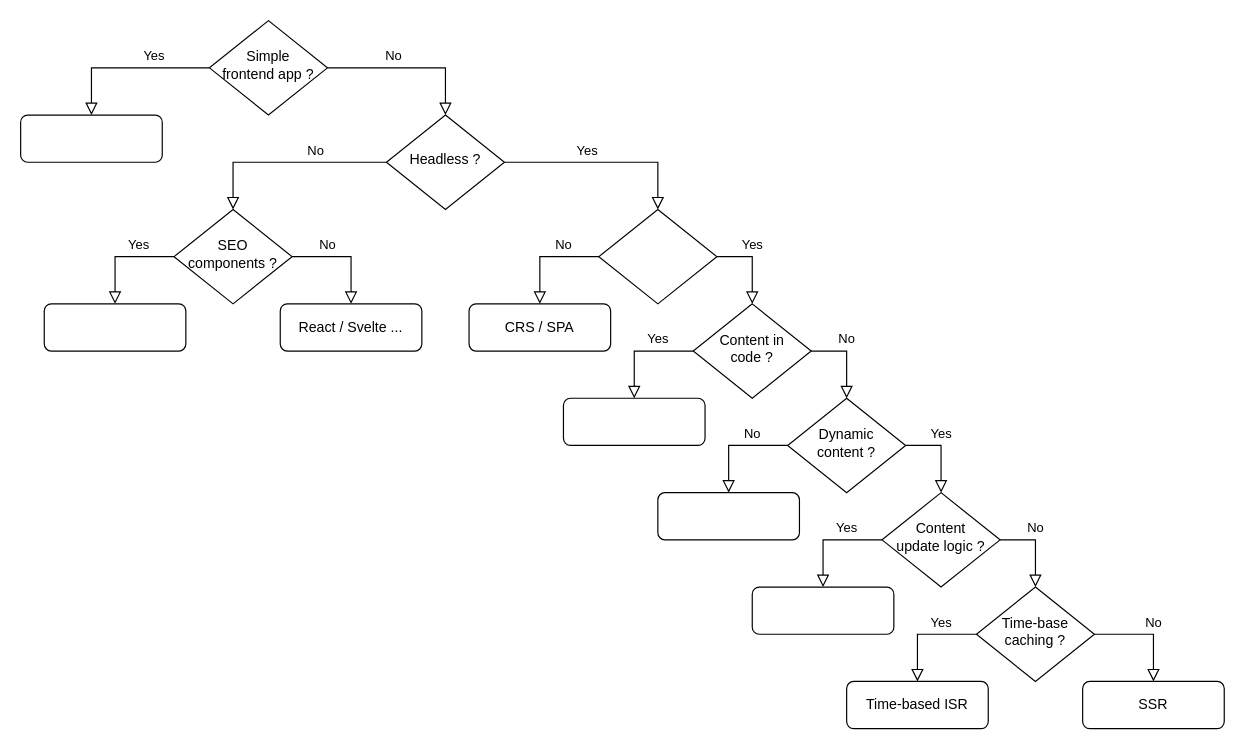
This 1245x749 diagram has some shape labels left out. Here are the shapes that lost their labels. From the top down, the centre of each, then its label:
At pixel 90 138: "No frontend framework".
At pixel 657 256: "SEO ?".
At pixel 114 327: "Vue.js / Alpine.js".
At pixel 633 421: "Jamstack".
At pixel 728 515: "SSG".
At pixel 822 610: "On-demand ISR".
